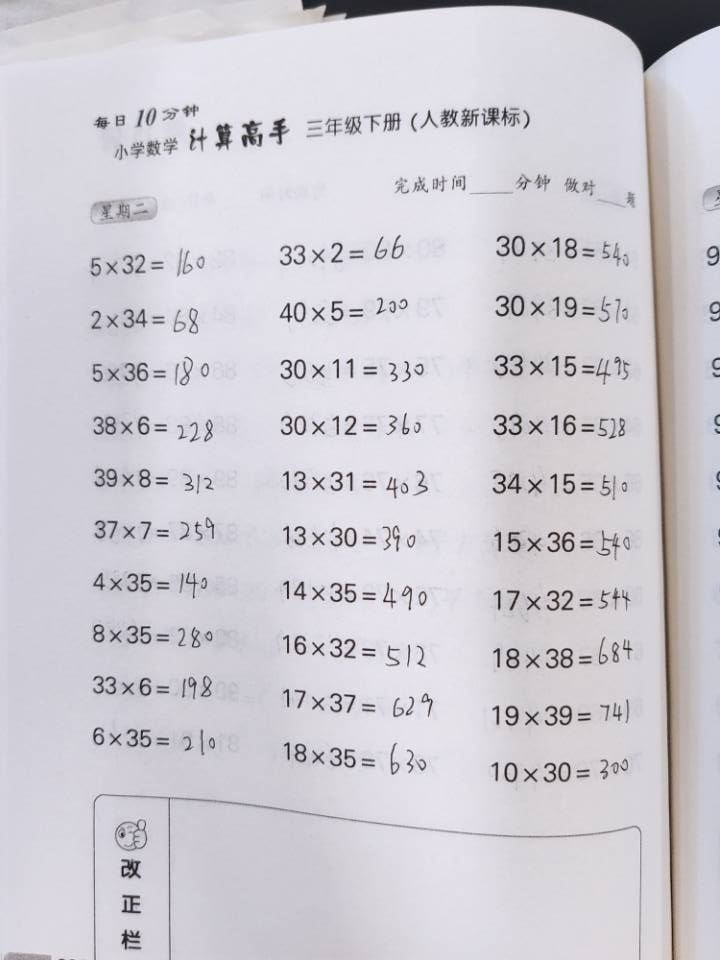equation: (458, 365, 516, 601), (340, 352, 389, 597), (386, 92, 437, 321), (468, 103, 519, 321), (550, 359, 592, 615), (163, 107, 212, 309), (257, 361, 298, 601), (430, 103, 472, 336), (559, 107, 601, 332), (347, 108, 389, 328), (298, 384, 341, 597), (212, 109, 256, 317), (166, 408, 214, 597), (292, 657, 338, 851), (512, 361, 550, 595), (531, 649, 574, 853), (375, 653, 417, 859), (338, 649, 380, 853), (258, 107, 298, 320), (430, 365, 465, 604), (214, 408, 259, 593), (455, 664, 498, 856), (384, 385, 424, 591), (416, 657, 456, 859), (518, 99, 555, 317), (302, 112, 340, 323), (257, 664, 298, 851), (178, 681, 222, 849), (219, 672, 259, 851), (496, 664, 532, 847)
